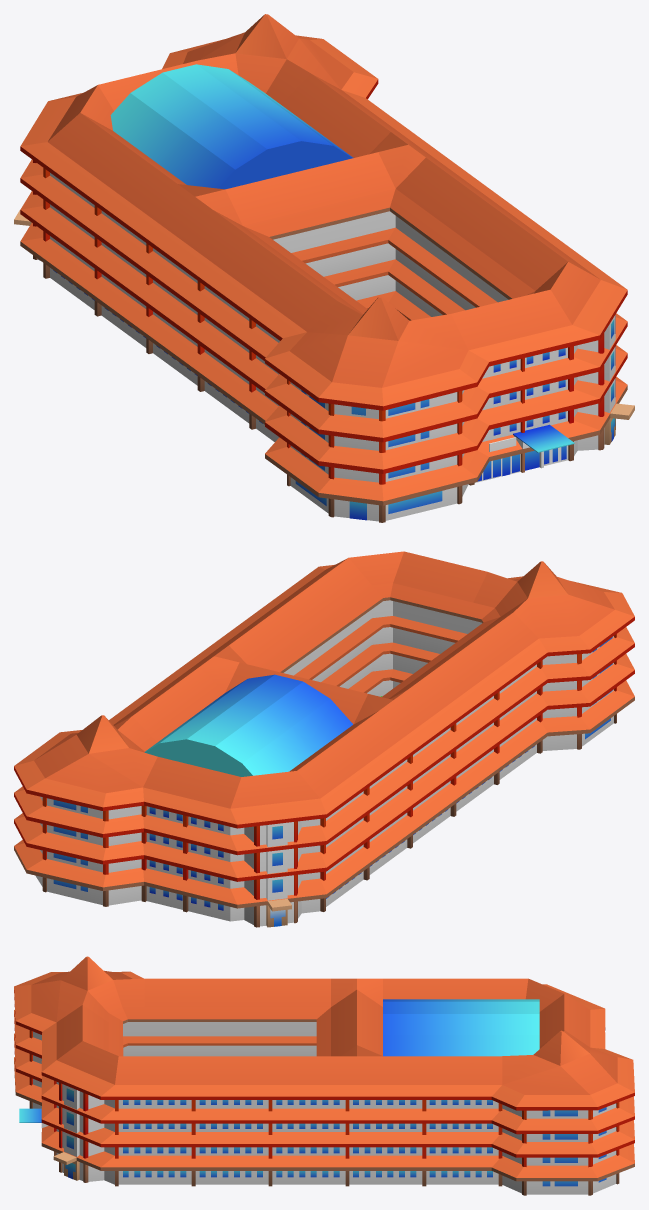
Rendered from Gedung Hotel Lingian.fbx.
3 renders of one model, top to bottom at view 1: azimuth 30°, elevation 25°; view 2: azimuth 150°, elevation 25°; view 3: azimuth 270°, elevation 25°, orthographic. The views are drawn at different scales.
Parts seen in each view (by area): view 1: Hotel Lingian; view 2: Hotel Lingian; view 3: Hotel Lingian.
Part boxes in pixels (x1,y1,x2,y2): Hotel Lingian: (14, 14, 634, 522); Hotel Lingian: (14, 551, 634, 927); Hotel Lingian: (14, 956, 634, 1195).
Bounding box in the file's own units: 4299 × 2082 × 8336.
Materials: 1 (1 with a texture image).
